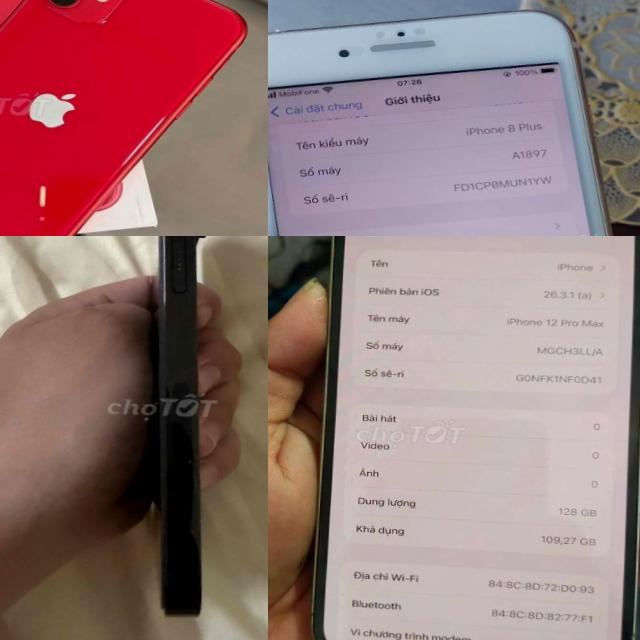gen_11: (0, 0, 251, 236)
gen_12_13: (313, 236, 640, 640)
gen_14: (125, 236, 251, 628)
gen_7_8: (268, 0, 640, 236)
